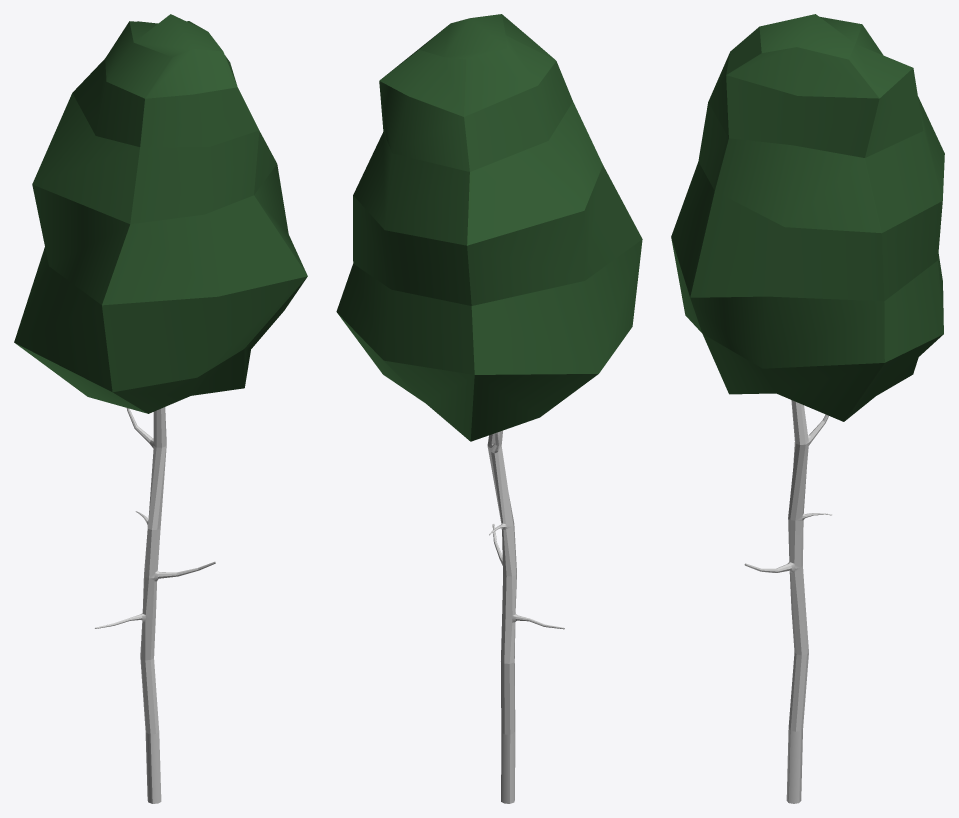
File: birch_variant.fbx
The picture shows the model from 3 angles, left to right: view 1: azimuth 30°, elevation 25°; view 2: azimuth 150°, elevation 25°; view 3: azimuth 270°, elevation 25°; orthographic projection. The views are drawn at different scales.
Parts seen in each view (by area): view 1: birch_variant_GEO; view 2: birch_variant_GEO; view 3: birch_variant_GEO.
Boxes of the visible parts, x1,y1,x2,y2 form: birch_variant_GEO: [14, 14, 307, 803]; birch_variant_GEO: [336, 14, 642, 803]; birch_variant_GEO: [671, 14, 944, 803].
Size of the model in its own units: 350 by 1074 by 333.
